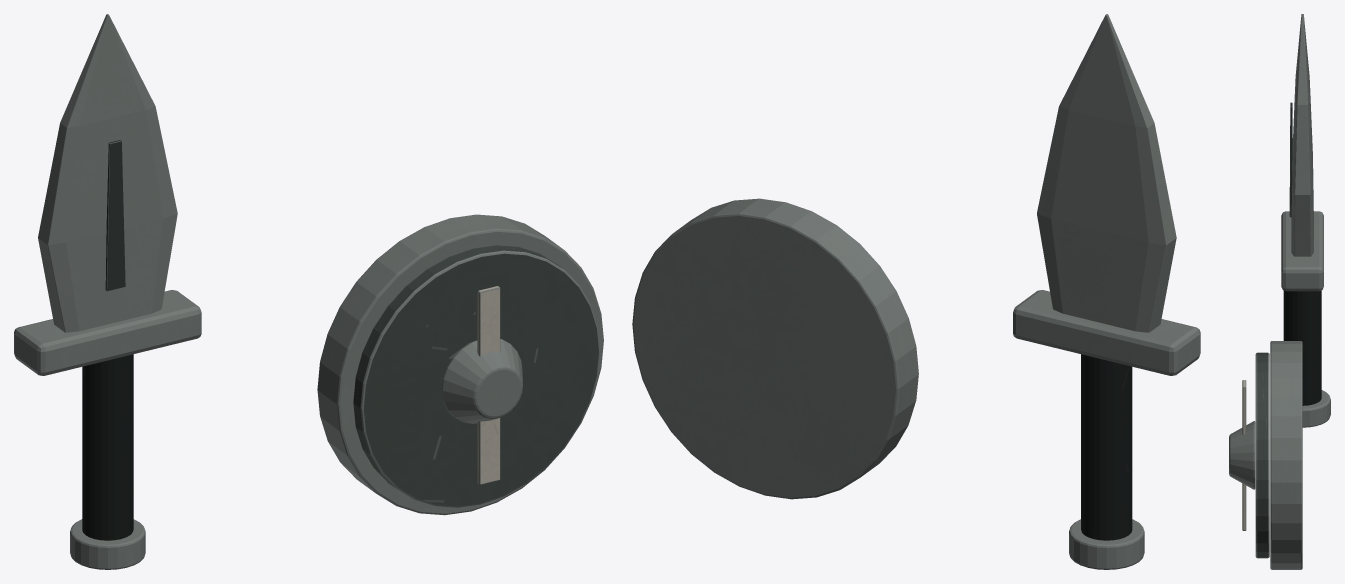
Rendered from sword_shield-t2.glb.
3 views of the same model, side by side, from view 1: azimuth 30°, elevation 25°; view 2: azimuth 150°, elevation 25°; view 3: azimuth 270°, elevation 25° (orthographic). The views are drawn at different scales.
Visible parts, largest first — view 1: Buckler painted face, Forged blade, Buckler steel rim, Wrapped handle, Crossguard, Buckler central boss, Shield centre stripe, Central blade fuller, Weighted pommel; view 2: Buckler steel rim, Forged blade, Wrapped handle, Crossguard, Weighted pommel; view 3: Buckler steel rim, Forged blade, Wrapped handle, Buckler painted face, Crossguard, Buckler central boss, Weighted pommel, Shield centre stripe, Central blade fuller.
Part boxes in pixels (box(x1,y1,x2,y2)): Buckler painted face: box(353, 245, 599, 507); Forged blade: box(38, 14, 177, 332); Buckler steel rim: box(317, 214, 603, 515); Wrapped handle: box(82, 354, 133, 540); Crossguard: box(14, 290, 201, 375); Buckler central boss: box(442, 339, 522, 423); Shield centre stripe: box(477, 286, 500, 484); Central blade fuller: box(105, 140, 125, 291); Weighted pommel: box(70, 519, 145, 569); Buckler steel rim: box(632, 198, 918, 499); Forged blade: box(1037, 14, 1176, 332); Wrapped handle: box(1081, 354, 1132, 540); Crossguard: box(1013, 290, 1200, 375); Weighted pommel: box(1069, 519, 1144, 569); Buckler steel rim: box(1270, 341, 1302, 569); Forged blade: box(1291, 14, 1313, 256); Wrapped handle: box(1283, 290, 1321, 405); Buckler painted face: box(1255, 352, 1269, 558); Crossguard: box(1281, 211, 1323, 291); Buckler central boss: box(1229, 421, 1255, 489); Weighted pommel: box(1302, 390, 1330, 427); Shield centre stripe: box(1242, 380, 1246, 530); Central blade fuller: box(1289, 102, 1292, 217).
Size of the model in its own units: 1.63 by 1.58 by 0.346.
Materials: 5 (5 with a texture image).
